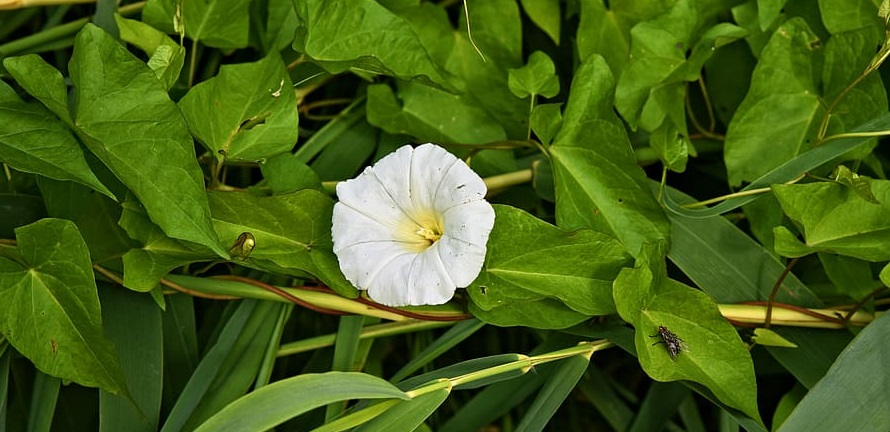bindweed: (327, 144, 497, 313)
